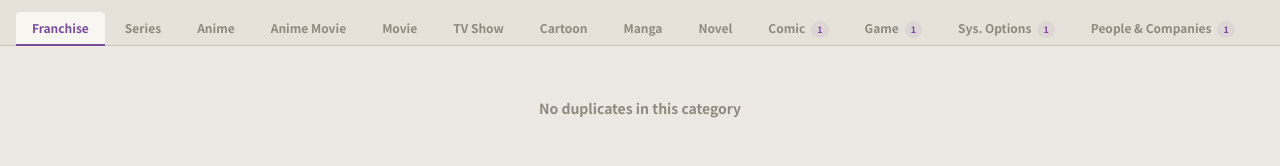
Test: renders a system option by its id and option_value
This screenshot has width=1280, height=166.
Step 1. Click the tab "Sys. Options1" → x=1006, y=29, box [942,12,1071,46]
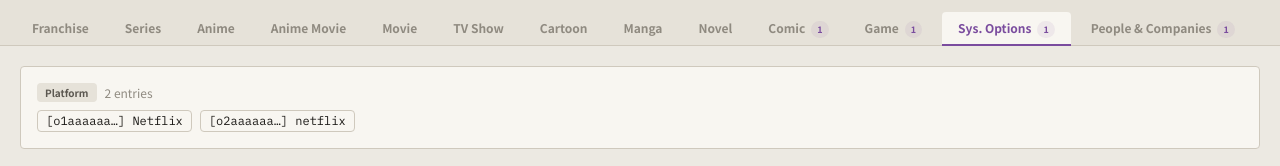
Result: the text "[o1aaaaaa…] Netflix" is shown at [37,110,192,132]
Result: the text "[o2aaaaaa…] netflix" is shown at [200,110,355,132]
